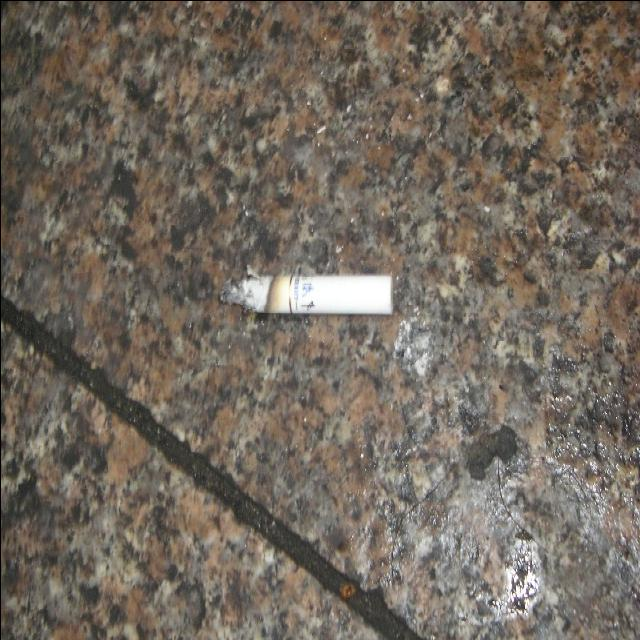b3: (210, 252, 398, 322)
